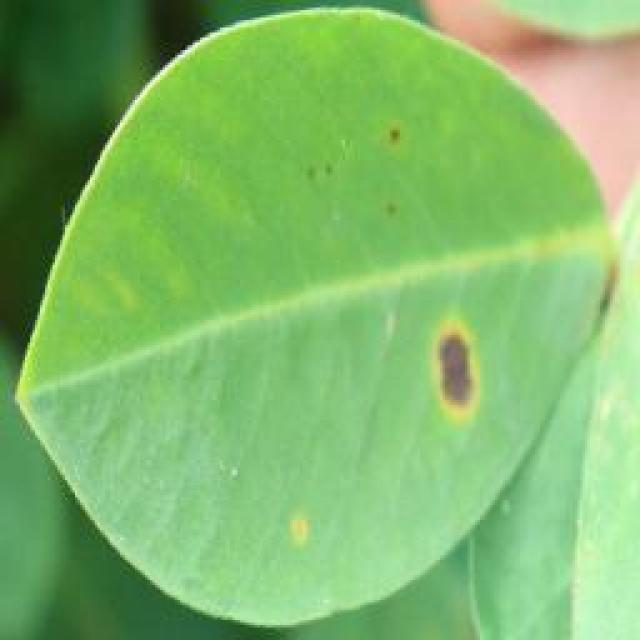Early_leaf_spot: (386, 279, 510, 428), (304, 118, 416, 235), (280, 490, 318, 570)
